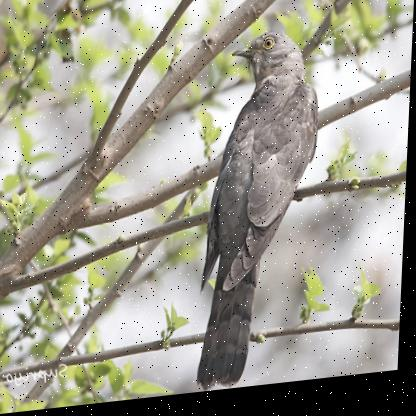Burung: (202, 32, 324, 396)
